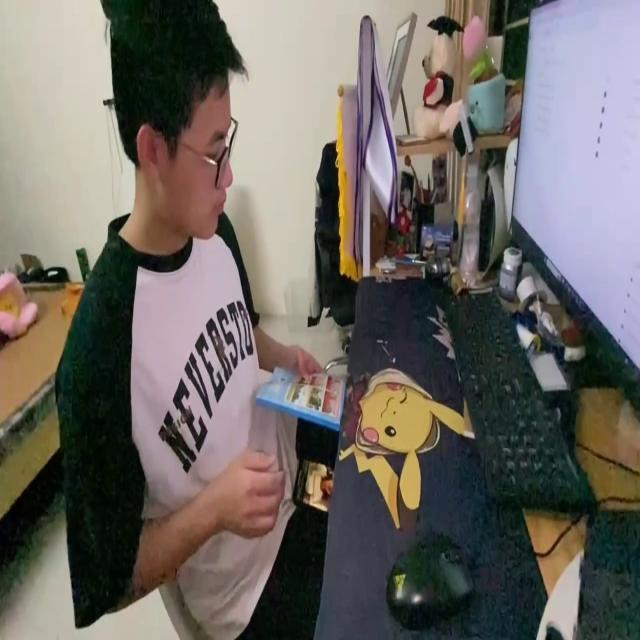book: (246, 351, 348, 438)
laptop: (506, 0, 640, 421)
phone: (291, 457, 334, 519)
student: (51, 0, 325, 640)
